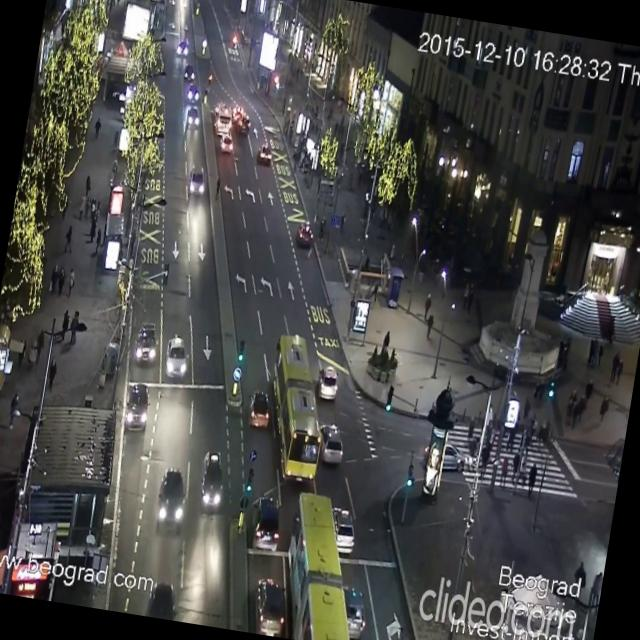bus: (273, 485, 371, 640), (255, 330, 337, 484)
car: (252, 570, 294, 638), (152, 465, 191, 535), (196, 448, 229, 512), (425, 439, 476, 480), (338, 581, 372, 640), (252, 491, 284, 549), (122, 382, 152, 434), (162, 334, 192, 381), (328, 504, 356, 552), (317, 424, 350, 464), (246, 388, 274, 429), (134, 320, 160, 364), (314, 364, 341, 402), (186, 160, 208, 194), (294, 220, 316, 248), (214, 131, 235, 156), (214, 110, 234, 134), (183, 111, 200, 135), (260, 142, 274, 166), (236, 116, 252, 134), (182, 64, 195, 86), (176, 40, 188, 60), (188, 85, 200, 102)
